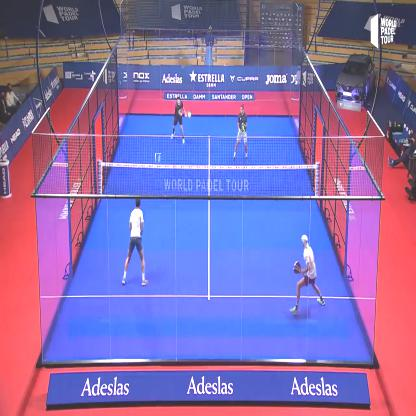ball: (155, 153, 162, 164)
